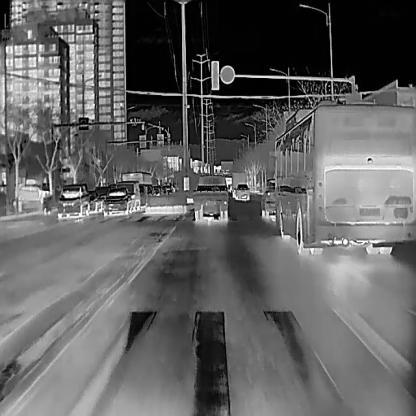car: (268, 99, 415, 255), (193, 172, 228, 220), (55, 183, 90, 218), (102, 185, 132, 216), (115, 180, 141, 211), (260, 178, 274, 219), (88, 185, 102, 214), (231, 172, 246, 197), (122, 172, 150, 185), (234, 183, 250, 200), (224, 176, 232, 193)
